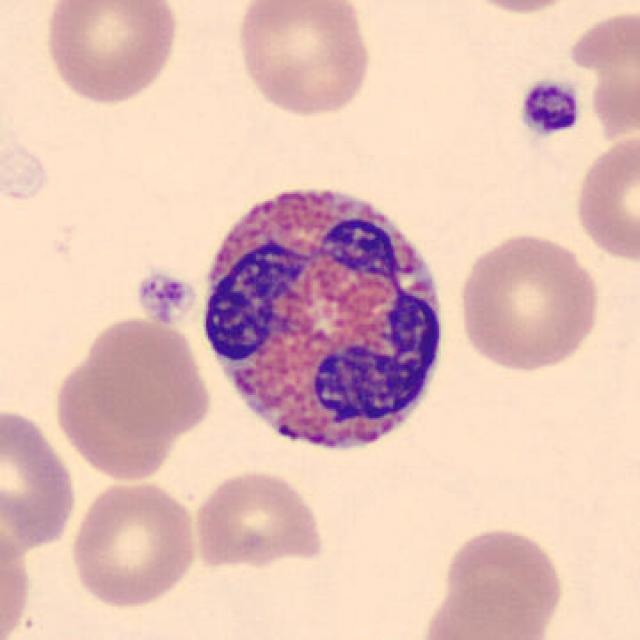Eosinophil: (192, 166, 455, 470)
Platelets: (515, 76, 585, 141), (132, 268, 198, 326)
RBC: (454, 229, 604, 374), (50, 340, 186, 487), (66, 476, 201, 612), (78, 314, 215, 441), (231, 0, 375, 120), (39, 0, 183, 108), (437, 522, 567, 636), (189, 466, 327, 572), (0, 402, 80, 552), (563, 7, 640, 143), (571, 130, 638, 266), (416, 576, 554, 640), (0, 516, 34, 640), (454, 0, 588, 16)
